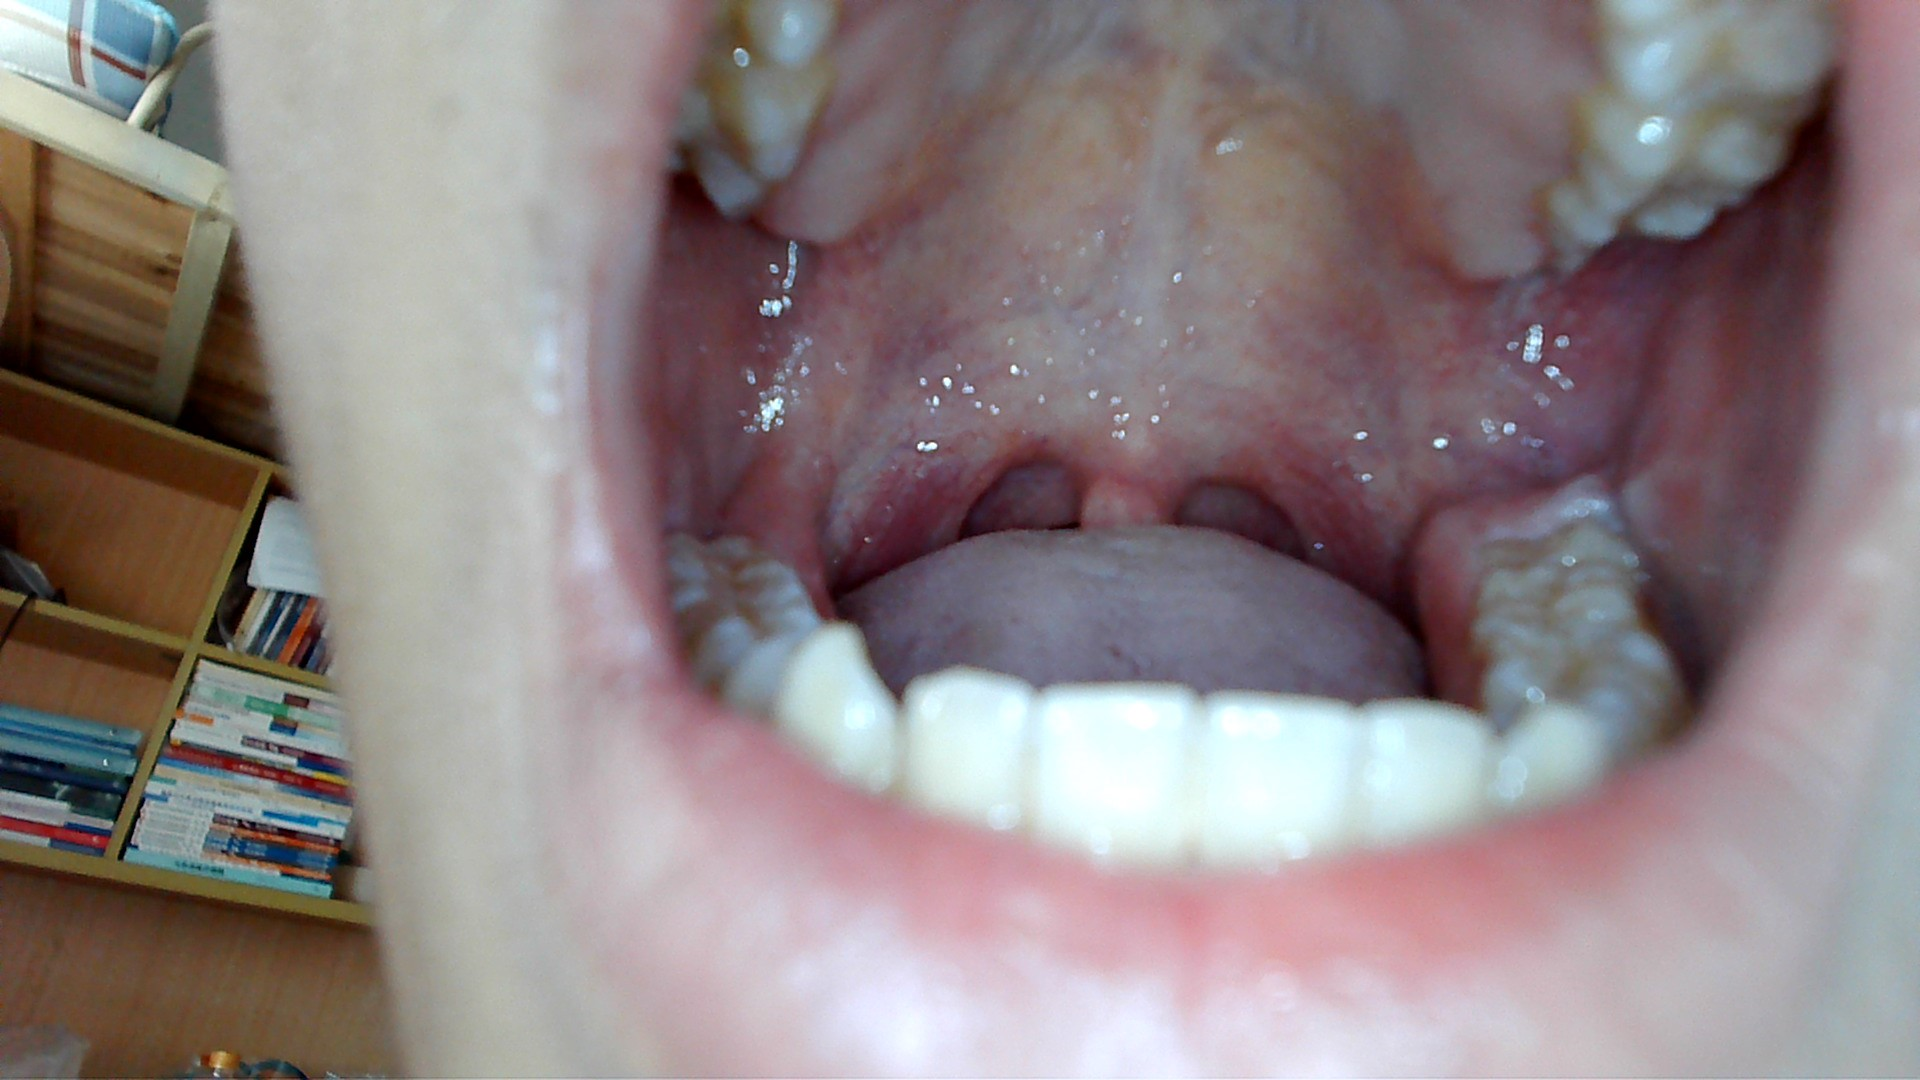throat: (918, 380, 1014, 545), (1242, 404, 1346, 541)
